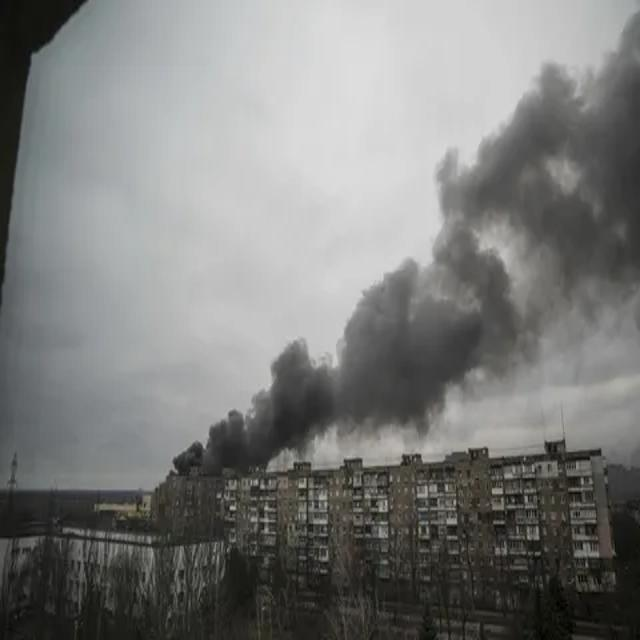Smoke: (172, 271, 494, 474)
